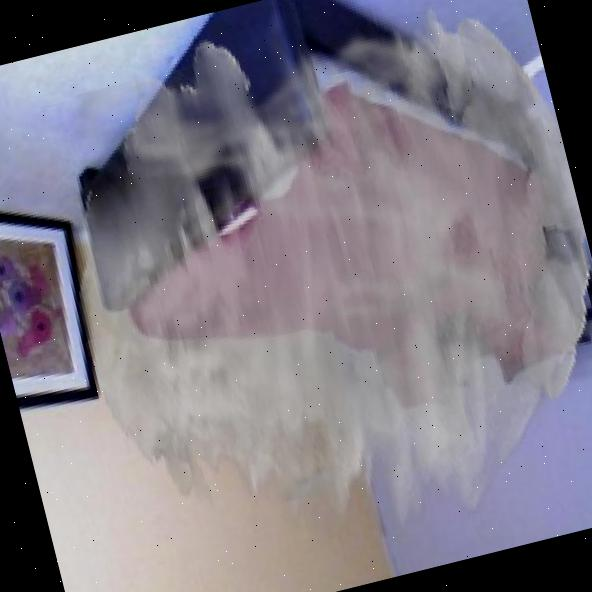smoke: (21, 0, 592, 592)
